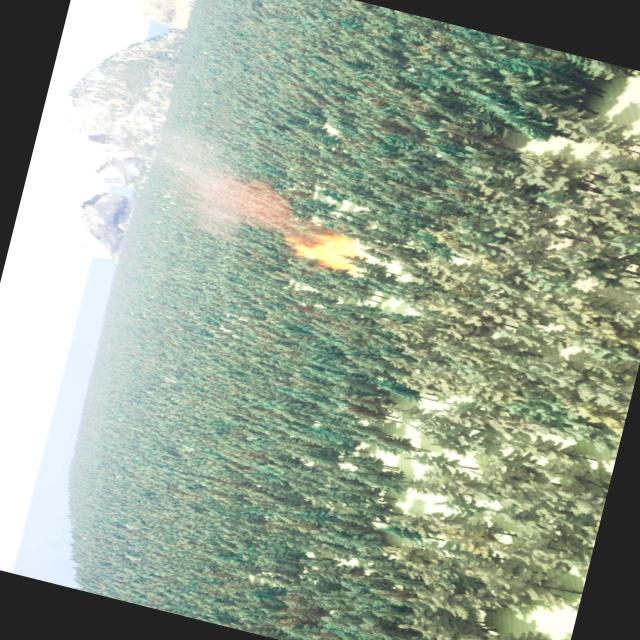fire: (291, 220, 362, 272)
smoke: (128, 123, 302, 251)
